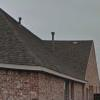Chimney: (43, 24, 62, 42)
